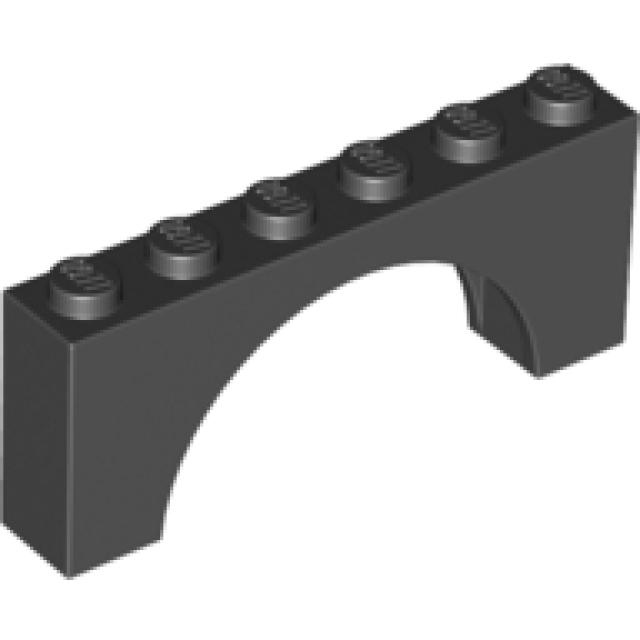Black_Large: (0, 63, 640, 580)
